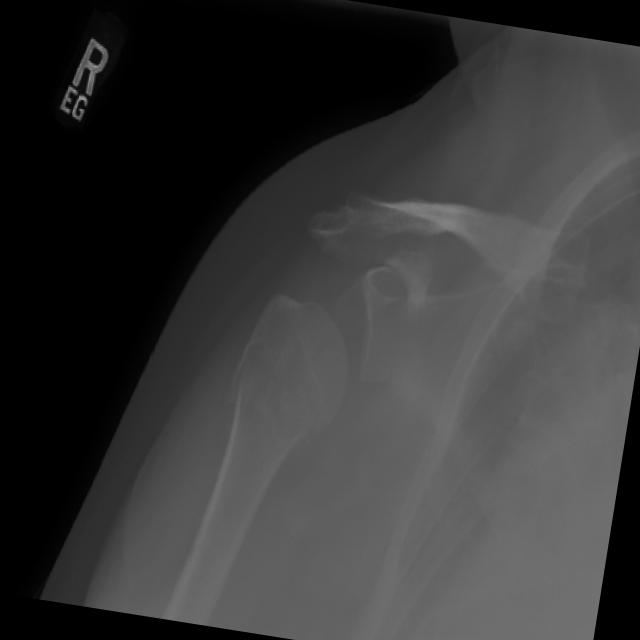shoulder fracture: (203, 328, 294, 446)
